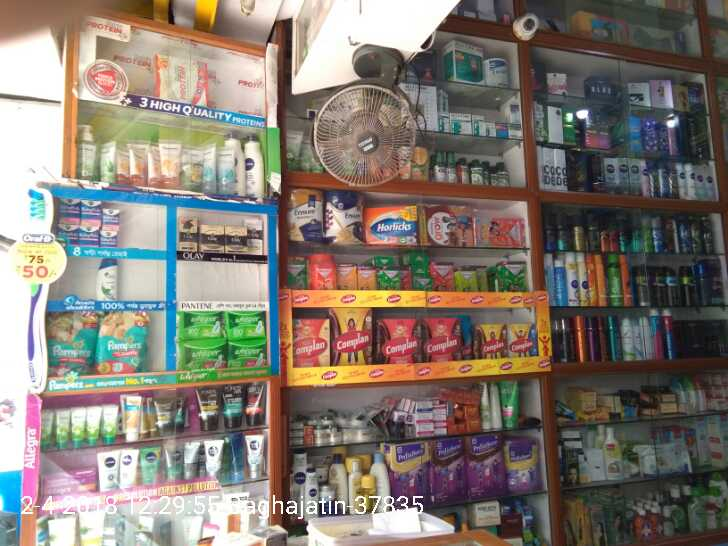vicks: (79, 200, 101, 224), (58, 199, 79, 221), (58, 224, 78, 245), (79, 225, 97, 248), (102, 209, 119, 229), (99, 231, 117, 247)
